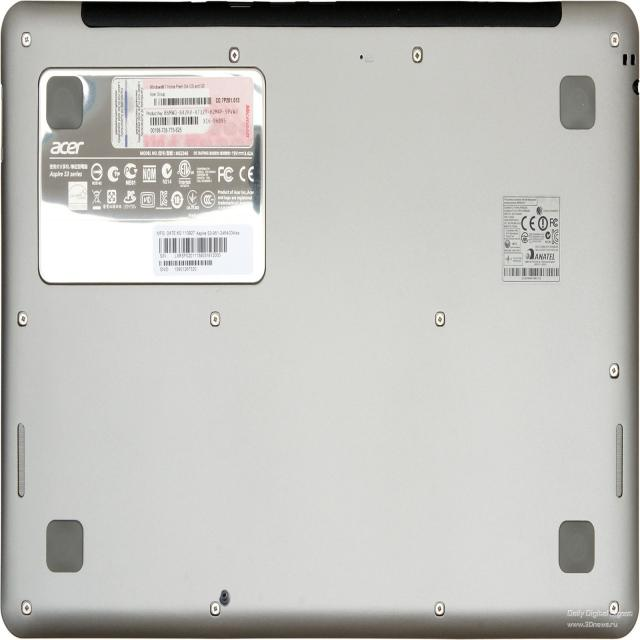missing_screw: (219, 589, 230, 606)
